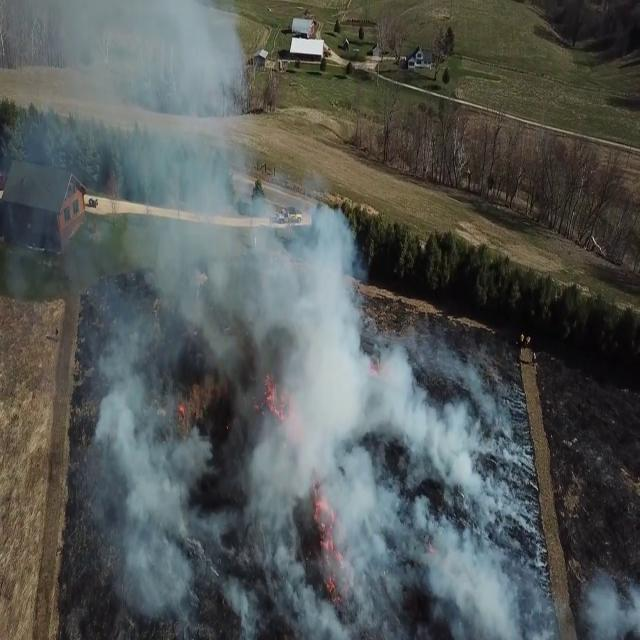Smoke: (34, 0, 471, 631)
